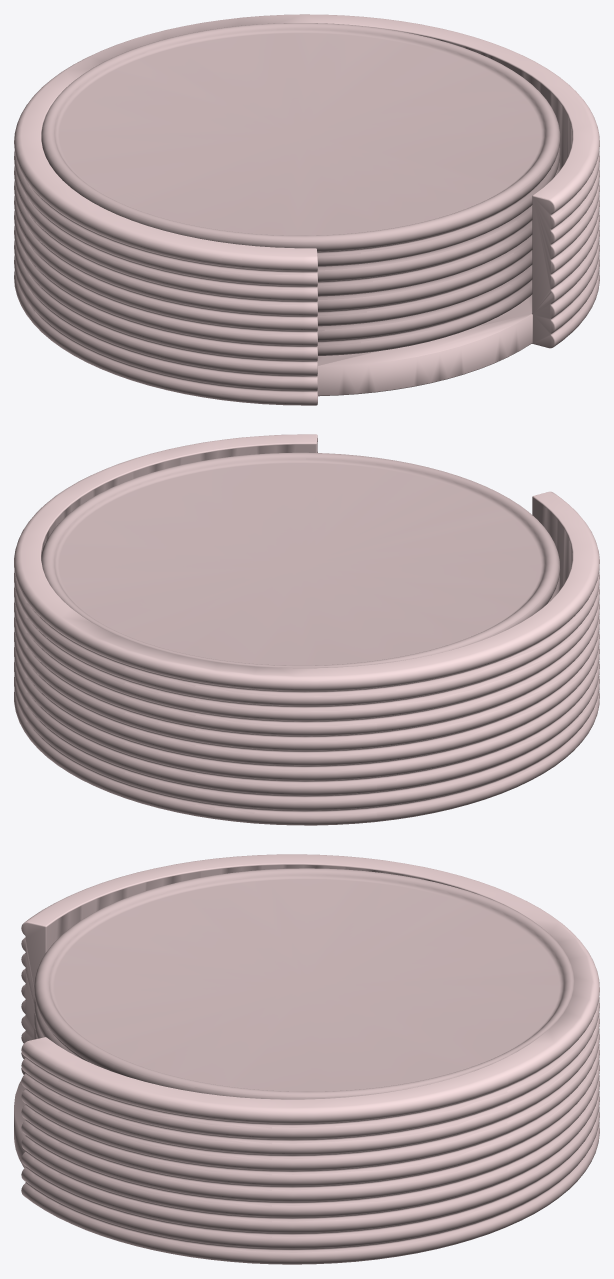
The model's file is bardak-altligi-seti-cizgili.glb.
3 renders of one model, top to bottom at view 1: azimuth 30°, elevation 25°; view 2: azimuth 150°, elevation 25°; view 3: azimuth 270°, elevation 25°, orthographic. The views are drawn at different scales.
Parts seen in each view (by area): view 1: Altliklar, Tepsi; view 2: Tepsi, Altliklar; view 3: Tepsi, Altliklar.
Boxes of the visible parts, x1,y1,x2,y2 form: Altliklar: (41, 23, 560, 355); Tepsi: (14, 14, 599, 405); Tepsi: (14, 434, 599, 825); Altliklar: (41, 452, 560, 668); Tepsi: (14, 854, 599, 1264); Altliklar: (34, 868, 574, 1099).
Bounding box in the file's own units: 0.107 × 0.0301 × 0.102.
